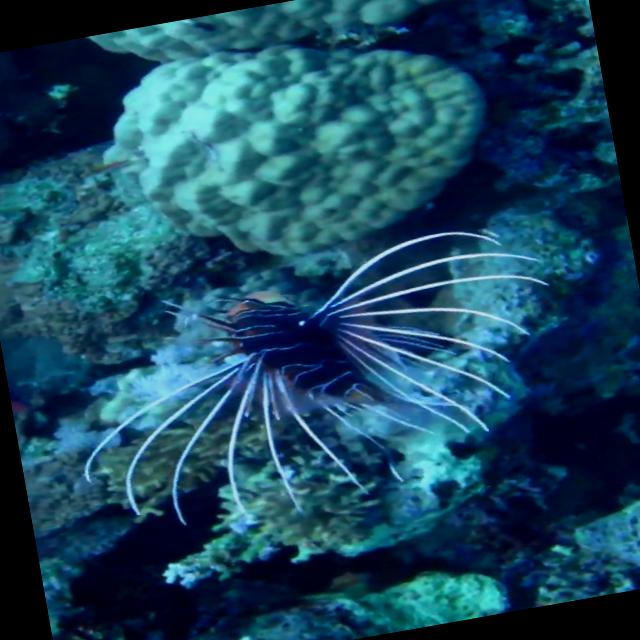Aslan Baligi: (50, 213, 582, 553)
